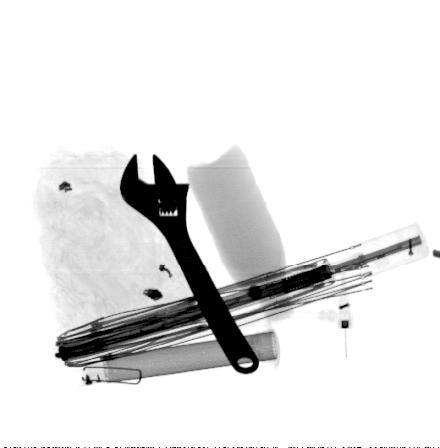Wrench: (119, 149, 261, 378)
